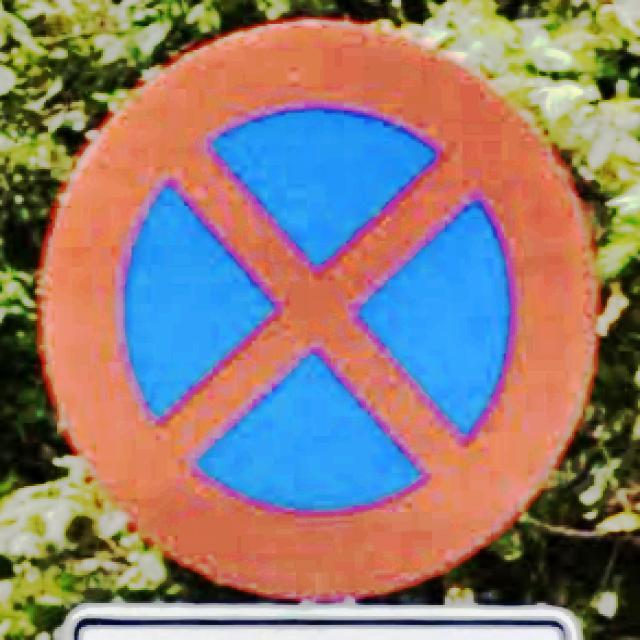nopark: (37, 20, 601, 605)
